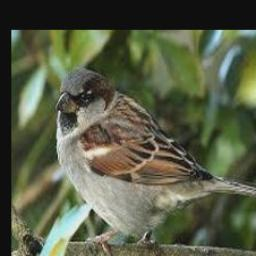Sparrow: (57, 67, 256, 256)
